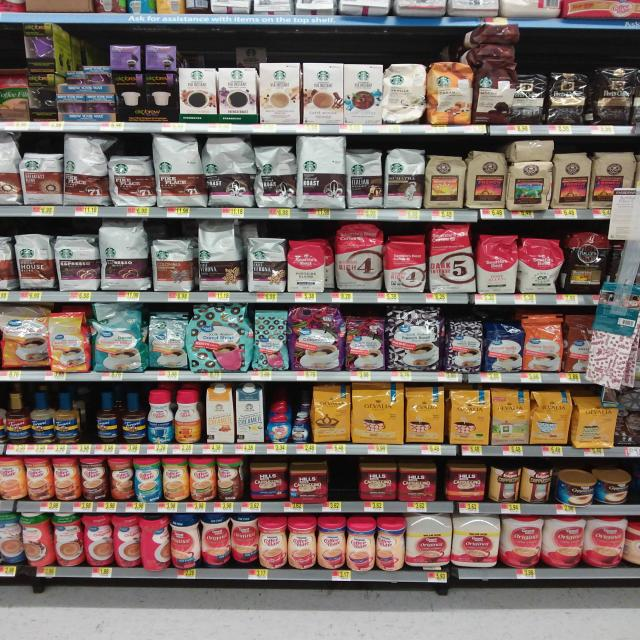unorganised: (333, 220, 388, 289), (474, 25, 518, 67), (230, 516, 261, 564)
